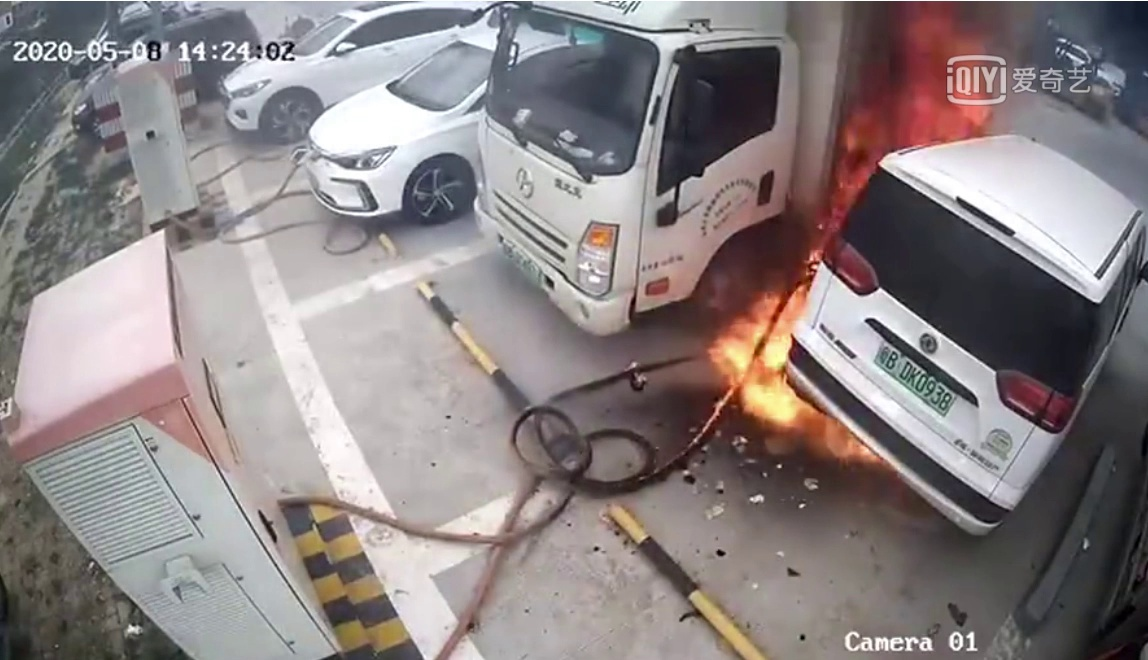fire: (719, 281, 839, 455)
